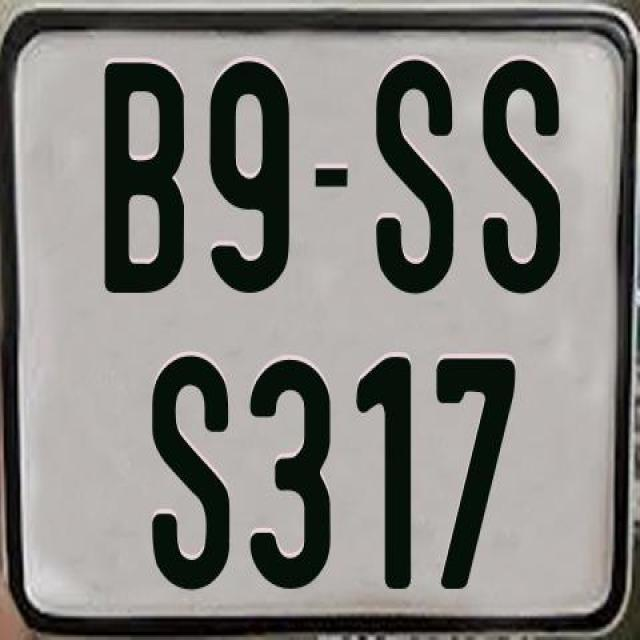1: (356, 354, 419, 590)
3: (248, 356, 332, 594)
7: (434, 357, 514, 589)
9: (208, 61, 292, 301)
B: (100, 62, 188, 296)
S: (374, 59, 456, 299), (152, 350, 234, 590), (481, 59, 560, 298)
